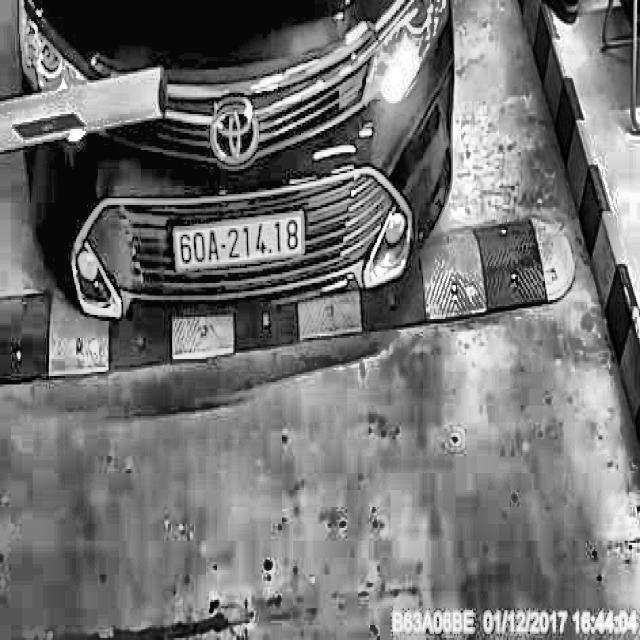plate: (169, 206, 307, 276)
